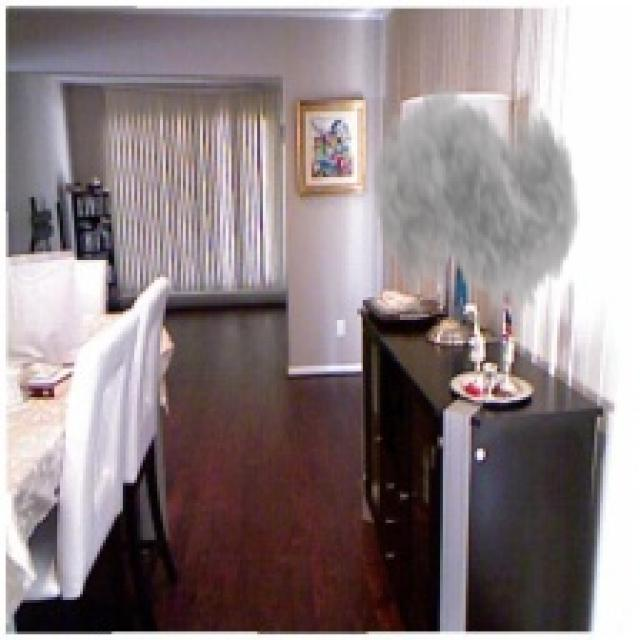smoke: (371, 60, 580, 343)
